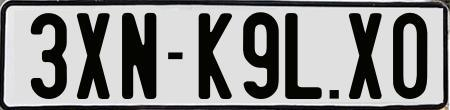0: (392, 10, 430, 98)
3: (31, 10, 69, 101)
9: (240, 11, 282, 99)
K: (196, 11, 231, 100)
L: (284, 12, 327, 101)
N: (122, 10, 157, 101)
X: (348, 11, 384, 103), (76, 13, 111, 103)
